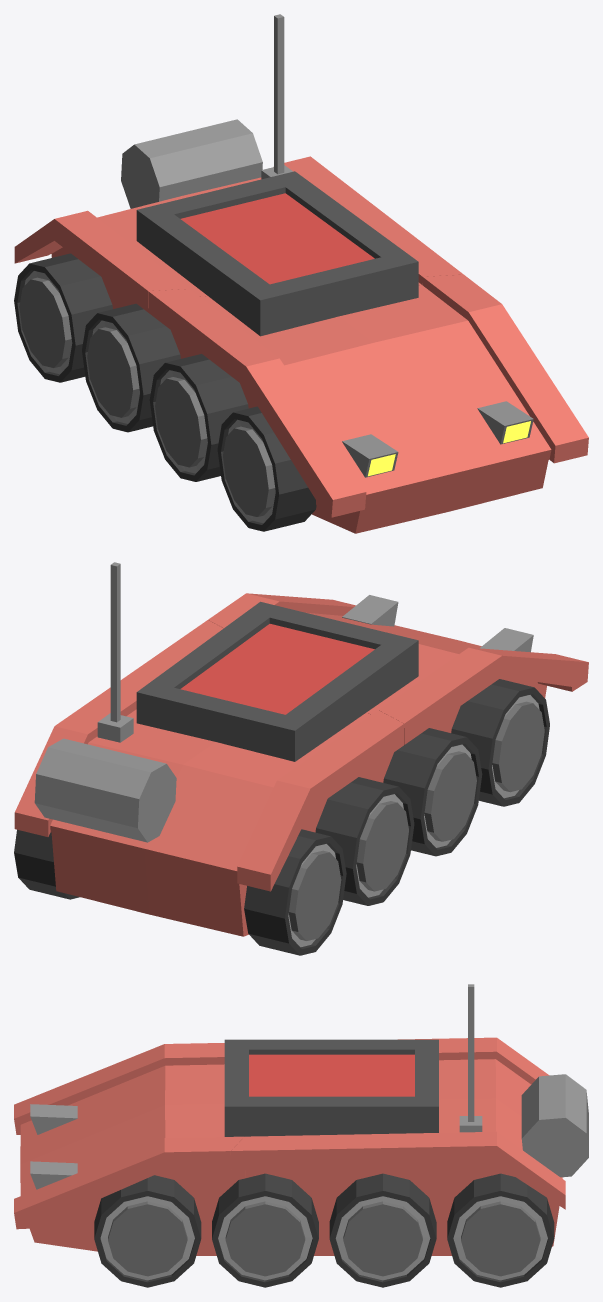
The model's file is ExplosiveTankShattered.fbx.
3 views of the same model, one above another, from view 1: azimuth 30°, elevation 25°; view 2: azimuth 150°, elevation 25°; view 3: azimuth 270°, elevation 25° (orthographic). The views are drawn at different scales.
Parts seen in each view (by area): view 1: Tank_Chassis_cell.001, Tank_ExplosiveCase, Tank_Chassis_cell, Tank_ExplosiveInner, Tank_Wheel.007, Tank_Wheel.005, Tank_Wheel.003, Tank_DecorativeCylinder, Tank_Wheel.001, Tank_DecorativeHeadlights, Tank_Antenna; view 2: Tank_Chassis_cell, Tank_ExplosiveCase, Tank_Chassis_cell.001, Tank_DecorativeCylinder, Tank_ExplosiveInner, Tank_Wheel.007, Tank_Wheel.005, Tank_Wheel.003, Tank_Wheel.001, Tank_Wheel.006, Tank_DecorativeHeadlights, Tank_Antenna (+1 smaller); view 3: Tank_Chassis_cell.001, Tank_Chassis_cell, Tank_ExplosiveCase, Tank_Wheel.004, Tank_Wheel.002, Tank_Wheel.006, Tank_Wheel, Tank_ExplosiveInner, Tank_DecorativeCylinder, Tank_DecorativeHeadlights, Tank_Antenna.
Boxes of the visible parts, left/top/right/bottom form: Tank_Chassis_cell.001: left=148, top=274, right=588, bottom=533; Tank_ExplosiveCase: left=136, top=171, right=418, bottom=336; Tank_Chassis_cell: left=14, top=156, right=463, bottom=358; Tank_ExplosiveInner: left=181, top=193, right=374, bottom=284; Tank_Wheel.007: left=14, top=253, right=112, bottom=382; Tank_Wheel.005: left=82, top=303, right=180, bottom=432; Tank_Wheel.003: left=149, top=354, right=248, bottom=481; Tank_DecorativeCylinder: left=121, top=119, right=262, bottom=208; Tank_Wheel.001: left=217, top=406, right=316, bottom=531; Tank_DecorativeHeadlights: left=342, top=401, right=533, bottom=477; Tank_Antenna: left=274, top=14, right=284, bottom=174; Tank_Chassis_cell: left=14, top=620, right=404, bottom=936; Tank_ExplosiveCase: left=136, top=601, right=418, bottom=761; Tank_Chassis_cell.001: left=208, top=593, right=588, bottom=782; Tank_DecorativeCylinder: left=34, top=738, right=176, bottom=842; Tank_ExplosiveInner: left=180, top=624, right=374, bottom=714; Tank_Wheel.007: left=244, top=829, right=346, bottom=955; Tank_Wheel.005: left=315, top=777, right=414, bottom=905; Tank_Wheel.003: left=383, top=728, right=482, bottom=856; Tank_Wheel.001: left=451, top=679, right=549, bottom=806; Tank_Wheel.006: left=14, top=829, right=79, bottom=899; Tank_DecorativeHeadlights: left=342, top=595, right=533, bottom=652; Tank_Antenna: left=110, top=562, right=120, bottom=722; Tank_Chassis_cell.001: left=14, top=1043, right=245, bottom=1255; Tank_Chassis_cell: left=231, top=1037, right=565, bottom=1255; Tank_ExplosiveCase: left=224, top=1039, right=438, bottom=1136; Tank_Wheel.004: left=329, top=1173, right=436, bottom=1287; Tank_Wheel.002: left=212, top=1173, right=318, bottom=1287; Tank_Wheel.006: left=447, top=1173, right=554, bottom=1287; Tank_Wheel: left=94, top=1175, right=201, bottom=1287; Tank_ExplosiveInner: left=249, top=1054, right=414, bottom=1096; Tank_DecorativeCylinder: left=521, top=1074, right=588, bottom=1177; Tank_DecorativeHeadlights: left=30, top=1104, right=77, bottom=1189; Tank_Antenna: left=468, top=984, right=474, bottom=1121.
Size of the model in its own units: 306 by 342 by 638.
